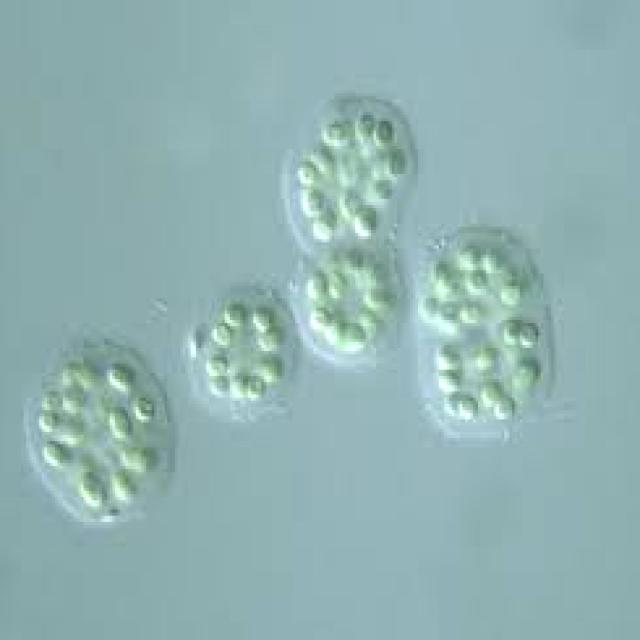Blue Green Algae: (76, 469, 107, 510), (512, 360, 543, 398), (110, 466, 141, 503), (102, 361, 136, 392), (42, 438, 70, 475), (107, 407, 136, 441), (361, 286, 397, 311), (342, 317, 368, 351), (319, 118, 350, 146), (437, 342, 462, 376), (340, 186, 366, 218), (134, 394, 160, 426), (256, 326, 285, 354), (481, 376, 504, 410), (222, 302, 248, 332), (301, 187, 329, 214), (434, 370, 465, 394), (441, 298, 465, 329), (518, 320, 544, 348), (206, 323, 235, 348), (355, 202, 376, 236), (389, 149, 413, 177), (483, 246, 507, 274), (366, 177, 392, 202), (34, 410, 60, 435), (326, 314, 345, 348), (374, 118, 397, 146), (499, 320, 522, 348), (494, 394, 517, 422), (306, 274, 329, 302), (201, 351, 230, 373), (311, 215, 334, 242), (502, 282, 525, 308), (355, 112, 374, 143), (418, 292, 439, 320), (295, 156, 316, 183), (468, 267, 488, 295), (457, 394, 478, 420), (311, 304, 332, 330), (248, 308, 274, 329), (212, 372, 232, 398), (246, 376, 269, 398)
